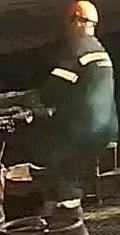helmet: (60, 0, 100, 25)
vest: (51, 36, 118, 156)
